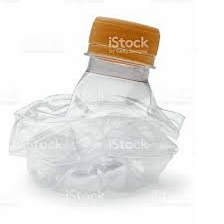bottle: (6, 6, 199, 199)
